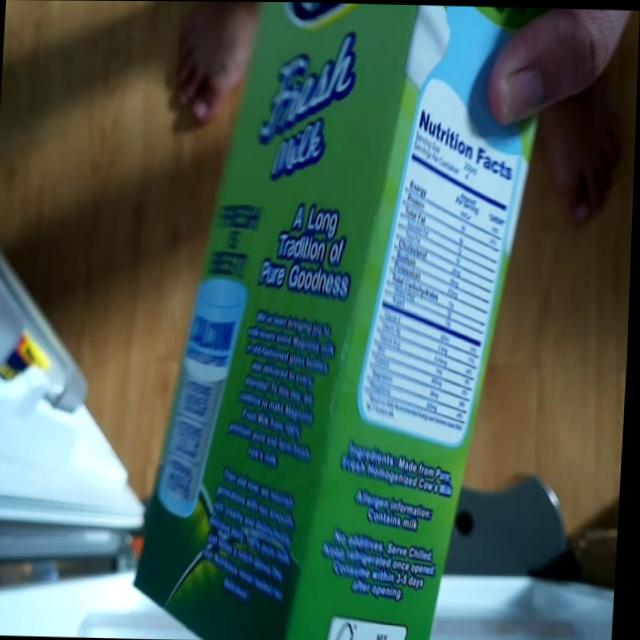milk: (130, 1, 555, 640)
